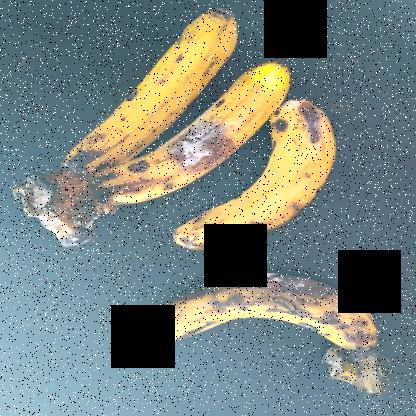overripe: (159, 92, 344, 256), (120, 54, 302, 206), (67, 10, 239, 166)
rotten: (139, 266, 398, 365)
